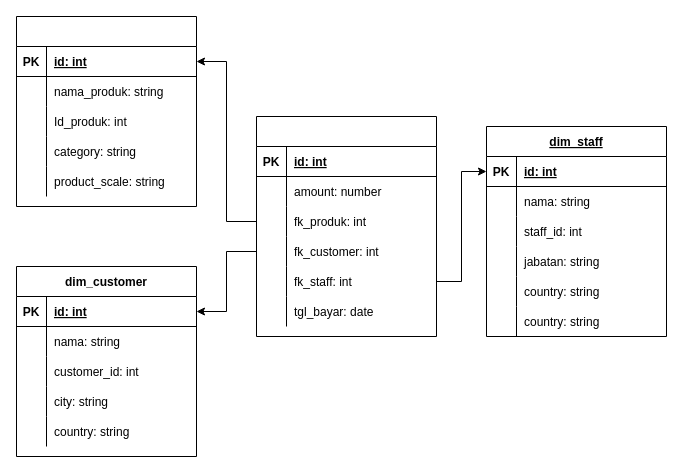
This 683x473 diagram has some shape labels left out. Each missing label, with the box of its shape:
dim_produk: (16, 16, 196, 206)
Fakta: (256, 116, 436, 336)
